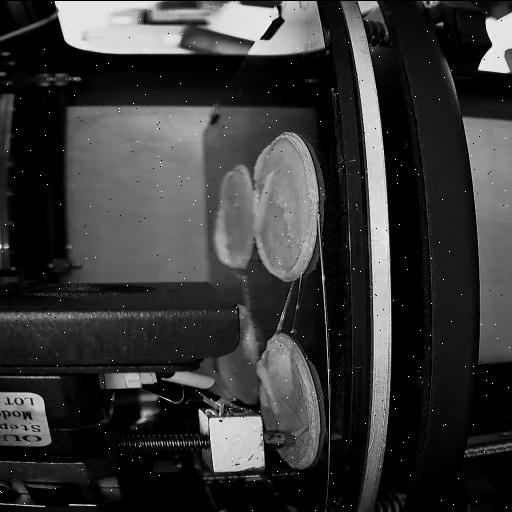over_extrusion: (256, 234, 308, 282), (256, 355, 286, 426), (209, 212, 245, 268), (254, 144, 276, 230), (218, 169, 234, 198), (292, 421, 310, 436)
